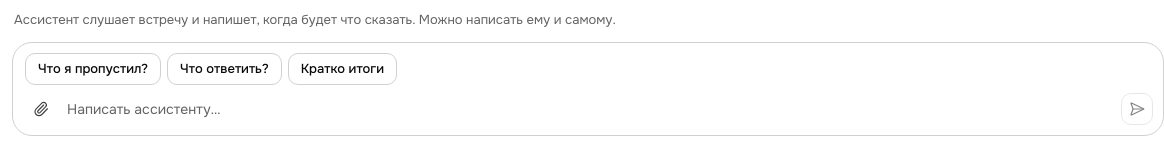
Test: «📎» — диалог оболочки, файлы уходят attachChatFile; не разобрано — видно
Click the button named "Приложить файл": (41, 108) x1=25 y1=92 x2=57 y2=124
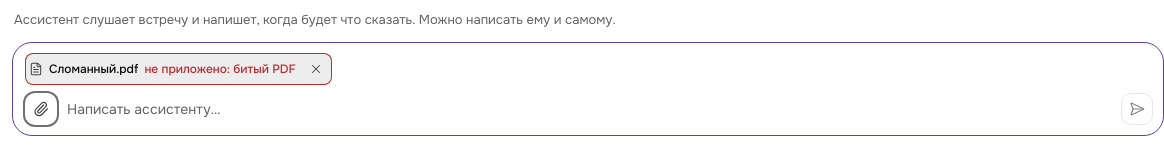
Result: the text "не приложено: битый PDF" is shown at x1=144 y1=62 x2=296 y2=74
